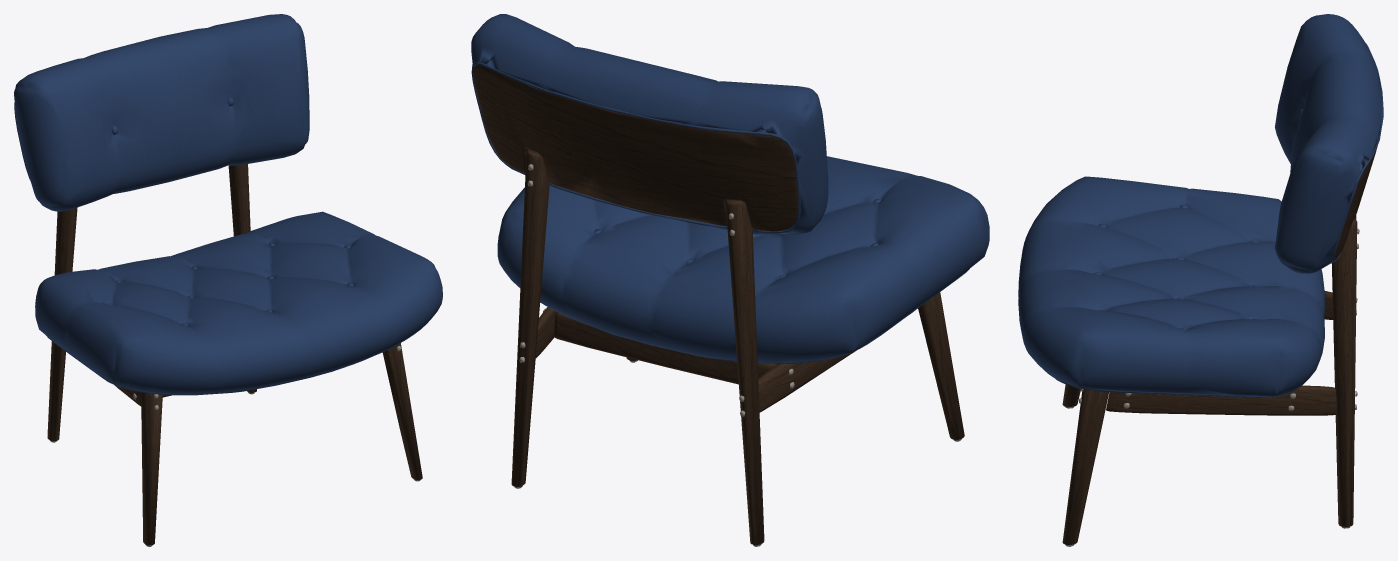
The model's file is lounge-chair.glb.
3 views of the same model, side by side, from view 1: azimuth 30°, elevation 25°; view 2: azimuth 150°, elevation 25°; view 3: azimuth 270°, elevation 25° (orthographic). The views are drawn at different scales.
Parts seen in each view (by area): view 1: SheenChair_fabric, SheenChair_wood; view 2: SheenChair_fabric, SheenChair_wood; view 3: SheenChair_fabric, SheenChair_wood.
Part boxes in pixels (bbox=[...]): SheenChair_fabric: bbox=[14, 14, 442, 395]; SheenChair_wood: bbox=[47, 164, 422, 545]; SheenChair_fabric: bbox=[471, 14, 989, 363]; SheenChair_wood: bbox=[473, 65, 964, 545]; SheenChair_fabric: bbox=[1018, 14, 1383, 397]; SheenChair_wood: bbox=[1062, 146, 1377, 544].
Bounding box in the file's own units: 0.9504 × 1.03 × 0.855.
4 materials, 3 textured.
